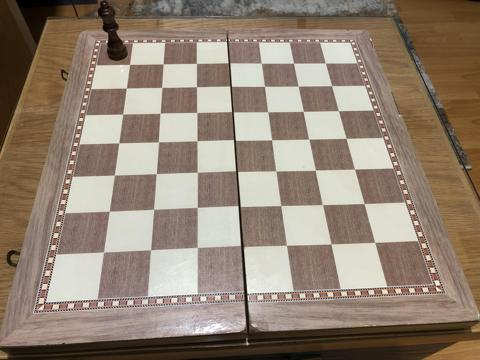xcorner: (320, 58, 333, 70), (158, 58, 170, 71), (327, 80, 339, 93), (191, 82, 204, 94), (156, 82, 169, 94), (334, 105, 346, 118), (264, 106, 276, 119), (192, 107, 204, 120), (117, 108, 129, 121), (113, 138, 126, 150), (318, 200, 331, 212), (283, 240, 295, 253), (289, 58, 301, 70), (257, 58, 269, 70), (224, 58, 236, 70), (191, 58, 203, 70), (124, 59, 136, 71), (294, 81, 306, 93), (260, 81, 272, 93), (226, 81, 238, 93), (121, 82, 133, 94), (299, 106, 311, 118), (228, 107, 240, 119), (155, 108, 167, 120), (341, 133, 353, 145), (305, 134, 317, 146), (268, 135, 280, 147), (230, 135, 242, 147), (192, 136, 204, 148), (153, 137, 165, 149), (350, 164, 362, 176), (311, 165, 323, 177), (272, 166, 284, 178), (232, 167, 244, 179), (192, 168, 204, 180), (151, 169, 163, 181), (109, 170, 121, 182), (359, 198, 371, 210), (277, 201, 289, 213), (235, 202, 247, 214), (192, 204, 204, 216), (148, 205, 160, 217), (104, 207, 116, 219), (370, 237, 382, 249), (327, 239, 339, 251), (238, 242, 250, 254), (192, 244, 204, 256), (146, 246, 158, 258), (98, 248, 110, 260)
